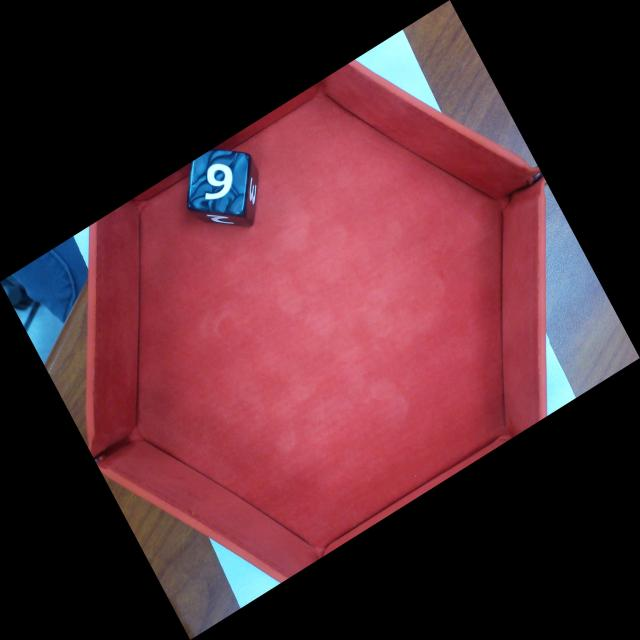dice: (185, 145, 250, 216)
